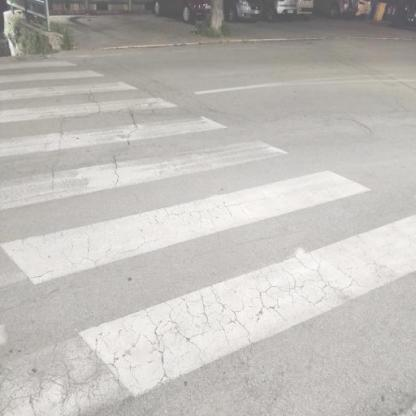crosswalk: (1, 136, 374, 292)
